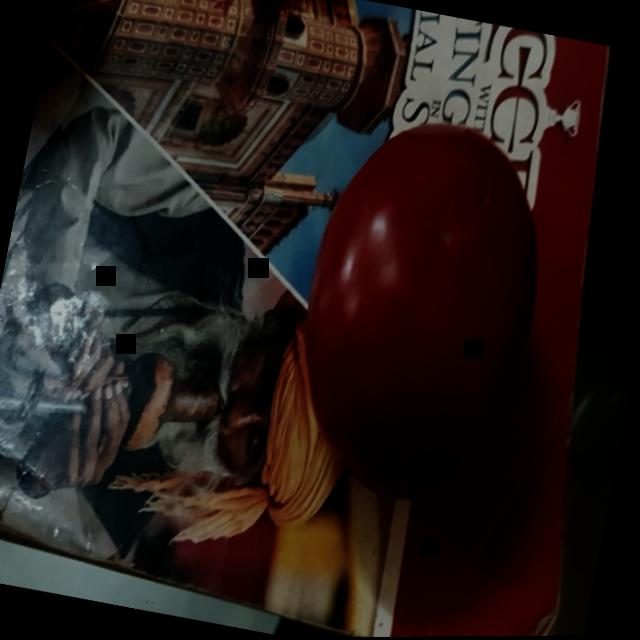tomato: (271, 99, 587, 532)
